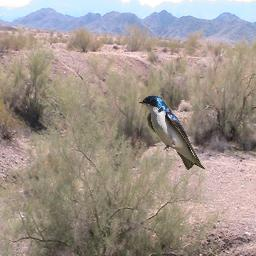Swallow: (138, 95, 206, 171)
